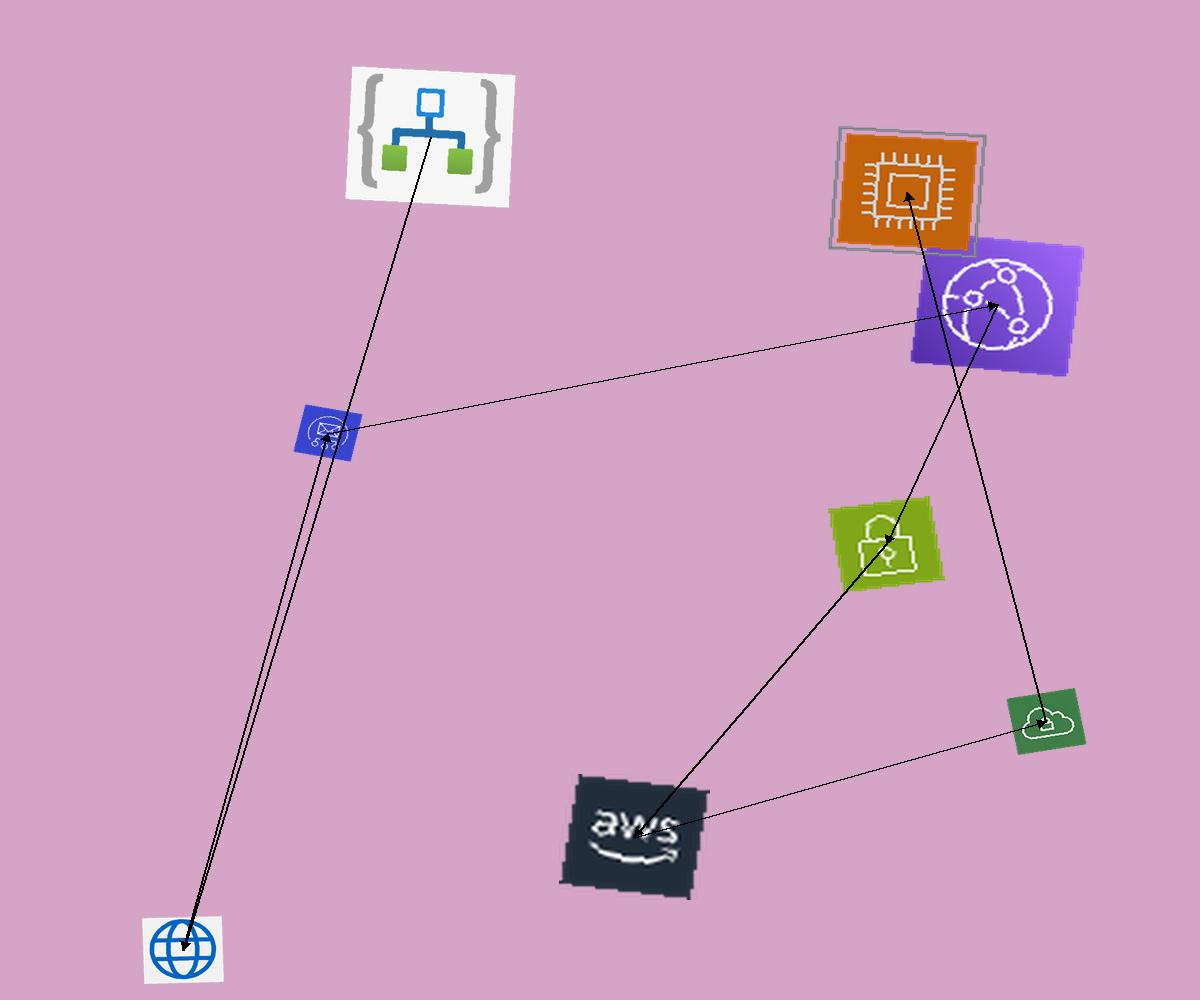AWS-Category_Compute: (827, 125, 988, 259)
AWS-Cloud-logo: (559, 774, 710, 900)
AWS-CloudFront: (909, 231, 1086, 378)
AWS-Private_vpc: (1006, 688, 1087, 755)
AWS-Public-subnet: (828, 496, 945, 593)
AWS-Simple-Email-Service: (293, 404, 363, 462)
Azure_http: (142, 916, 224, 984)
Azure_integration-204-Logic-Apps: (345, 66, 516, 208)
